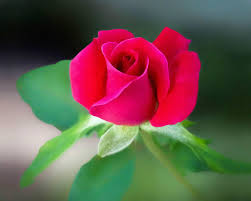lale: (71, 15, 219, 151)
